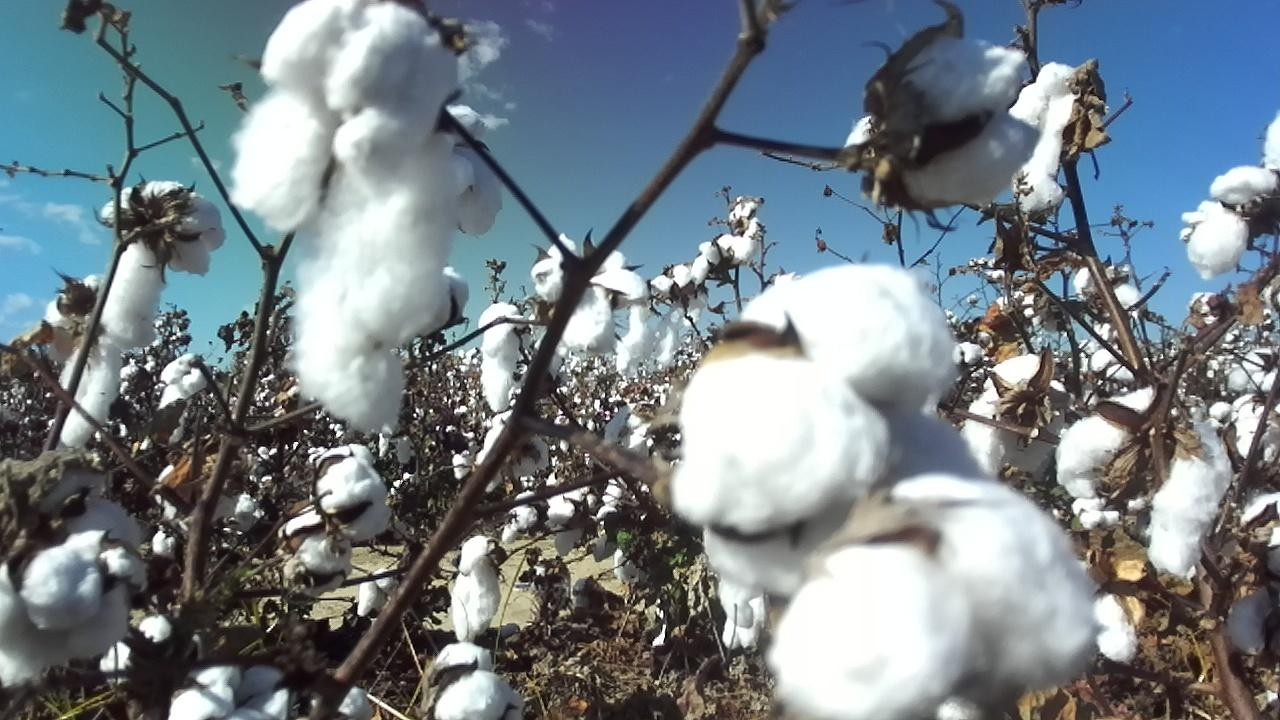cotton_ready: (675, 260, 986, 595), (770, 472, 1099, 720), (295, 104, 505, 427), (233, 0, 464, 232), (1059, 384, 1233, 579), (0, 502, 152, 688), (888, 36, 1042, 205), (101, 177, 229, 349), (276, 444, 394, 598), (1187, 109, 1280, 287), (42, 275, 123, 447), (532, 235, 649, 354), (964, 355, 1070, 477), (1008, 60, 1084, 214), (1230, 491, 1280, 657), (650, 257, 712, 374), (432, 642, 524, 720), (169, 664, 297, 720), (155, 350, 214, 446), (479, 410, 547, 491), (451, 537, 500, 643), (153, 465, 239, 525), (478, 303, 527, 407), (595, 477, 652, 560), (1077, 262, 1141, 325), (1232, 392, 1280, 466), (719, 578, 765, 652), (548, 485, 594, 554), (603, 404, 660, 459), (1094, 594, 1137, 665), (698, 222, 760, 262), (502, 491, 547, 542), (849, 112, 886, 151)
